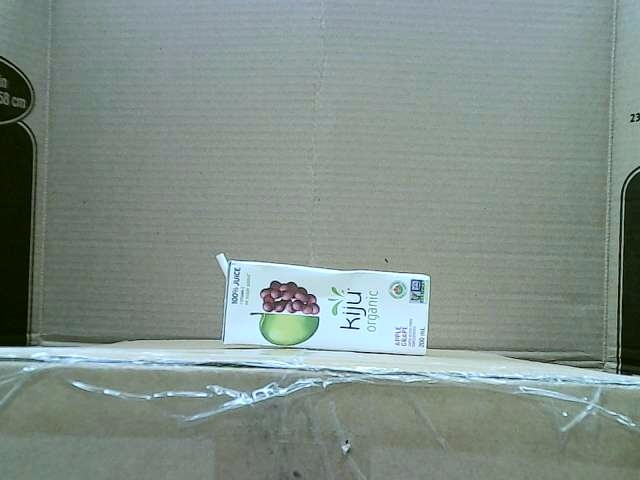JuiceBox: (216, 252, 432, 354)
